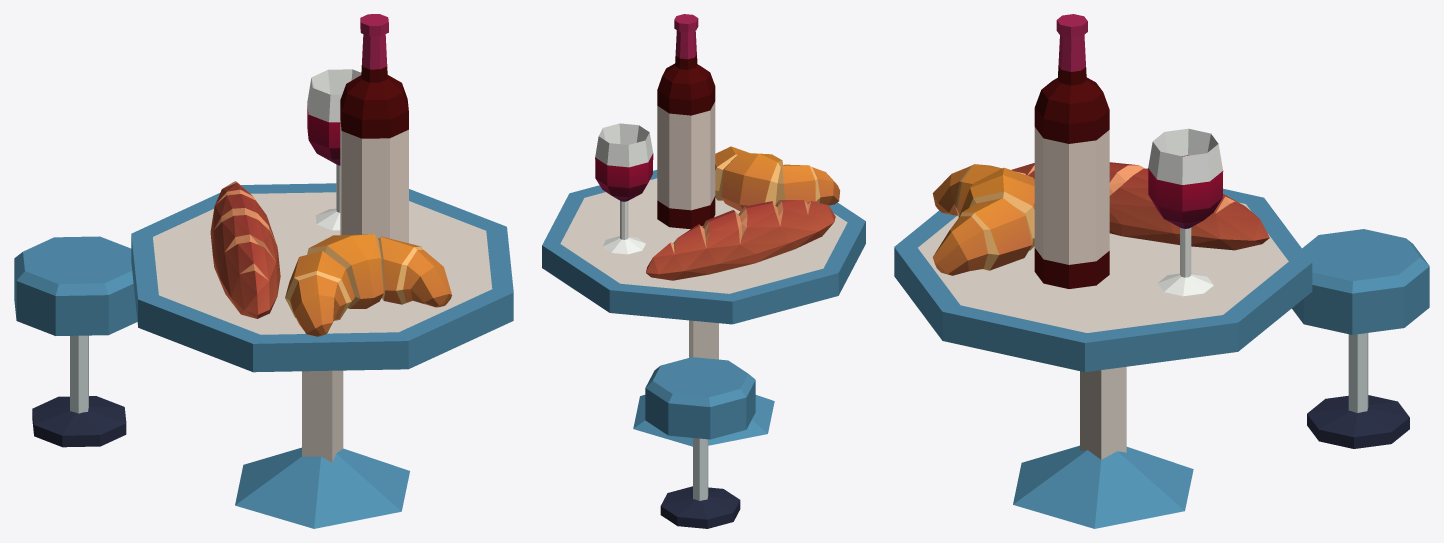
Rendered from tableB.FBX.
The picture shows the model from 3 angles, left to right: view 1: azimuth 30°, elevation 25°; view 2: azimuth 150°, elevation 25°; view 3: azimuth 270°, elevation 25°; orthographic projection. The views are drawn at different scales.
Parts seen in each view (by area): view 1: tableB; view 2: tableB; view 3: tableB.
Boxes of the visible parts, bbox=[...] form: tableB: bbox=[14, 14, 513, 528]; tableB: bbox=[542, 14, 865, 528]; tableB: bbox=[894, 14, 1429, 528].
Size of the model in its own units: 4.87 by 6.18 by 6.17.
